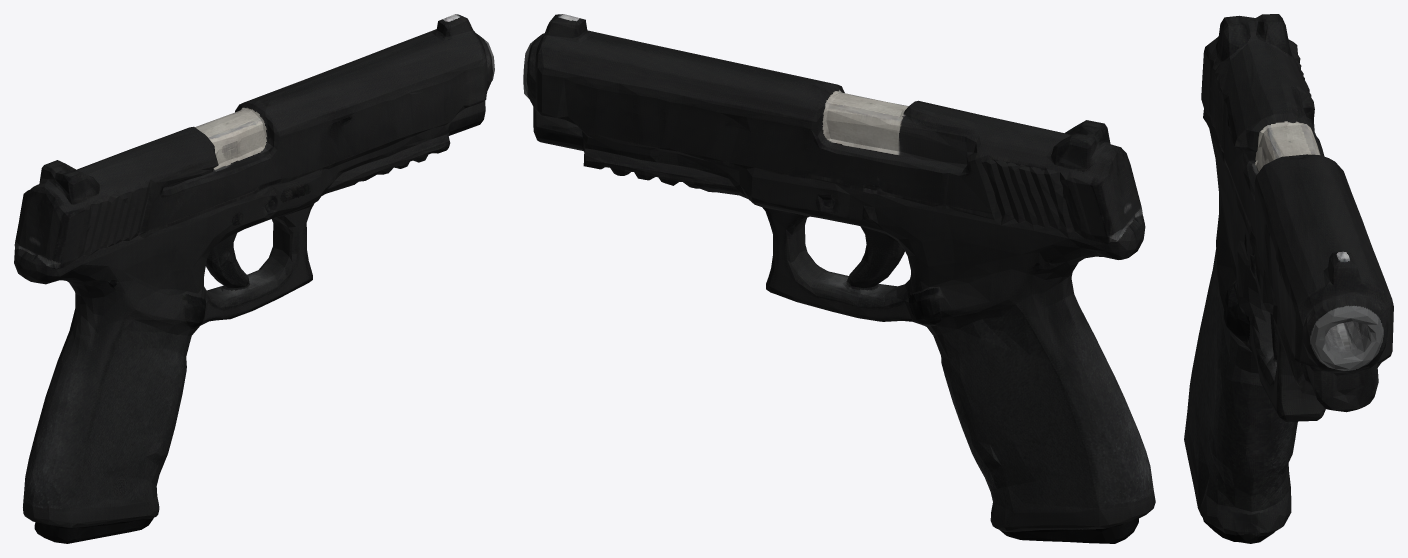
Rendered from pistol_a.fbx.
The picture shows the model from 3 angles, left to right: view 1: azimuth 30°, elevation 25°; view 2: azimuth 150°, elevation 25°; view 3: azimuth 270°, elevation 25°; orthographic projection. The views are drawn at different scales.
Visible parts, largest first — view 1: Mesh_0; view 2: Mesh_0; view 3: Mesh_0.
Boxes of the visible parts, x1,y1,x2,y2 form: Mesh_0: [14, 14, 494, 543]; Mesh_0: [523, 14, 1155, 543]; Mesh_0: [1184, 14, 1393, 543].
Size of the model in its own units: 0.1883 by 0.14 by 0.0524.
Materials: 1 (1 with a texture image).
